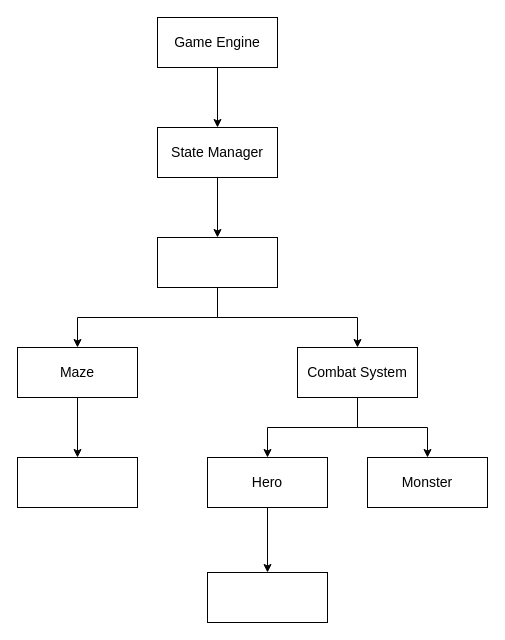
The diagram is 505 pixels wide and 640 high, and some of its shapes have lost their labels. The centre of each missing label's shape, as x and y in pixels:
"GamePlay State" belongs at (217,262).
"Inventory" belongs at (267,597).
"Tile" belongs at (77,482).
